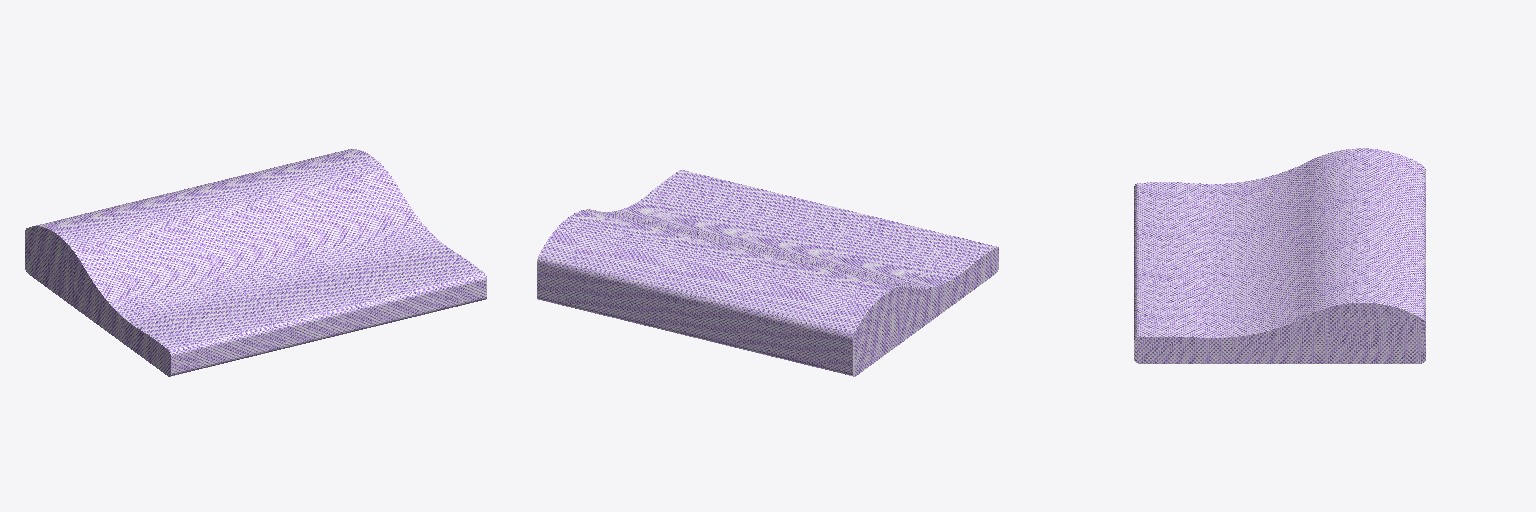
3 views of the same model, side by side, from view 1: azimuth 30°, elevation 25°; view 2: azimuth 150°, elevation 25°; view 3: azimuth 270°, elevation 25° (orthographic).
Parts seen in each view (by area): view 1: violet; view 2: violet; view 3: violet.
Part boxes in pixels (bbox=[...]): violet: bbox=[25, 149, 486, 376]; violet: bbox=[537, 170, 998, 376]; violet: bbox=[1134, 148, 1425, 363].
Size of the model in its own units: 5.66 by 1.04 by 4.53.
1 materials, 1 textured.